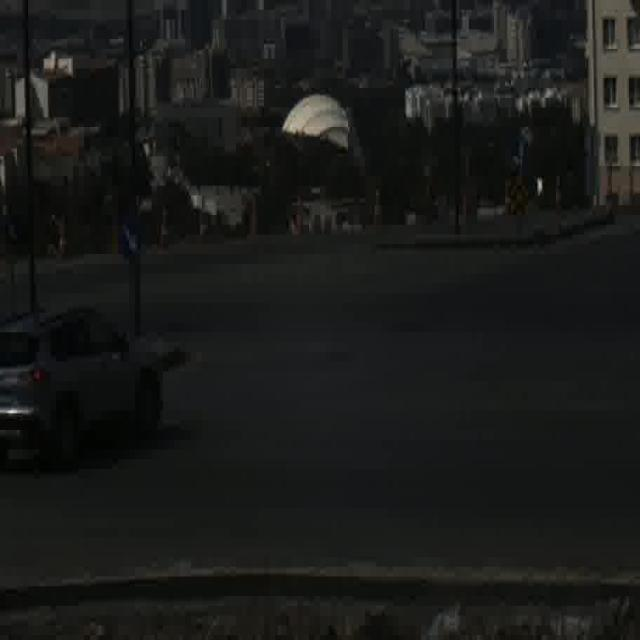Car: (0, 304, 161, 465)
